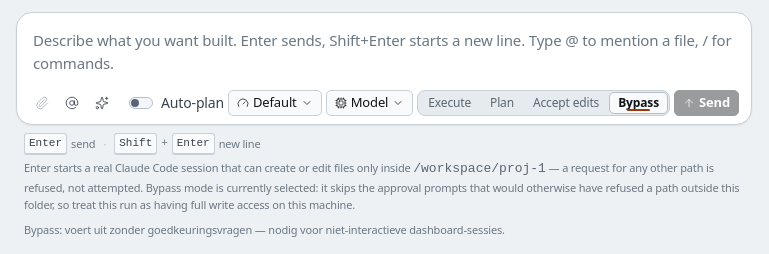
Test case: item 5 — the composer menu popover is height-bounded and skill items degrade gracefully › a skill with no recorded description renders only its name, never "No description recorded."
Click the button named "Choose a skill" at (102, 103), box [89, 90, 115, 116]
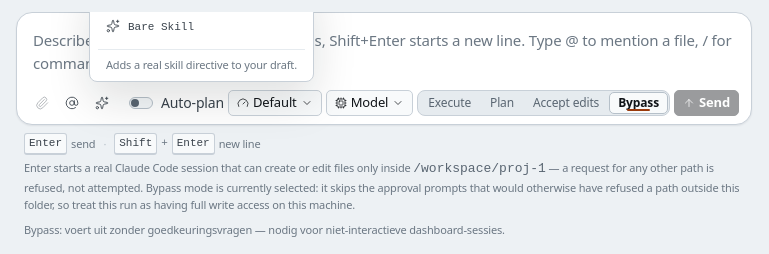
expect the text "Bare Skill" is shown: met, box [128, 19, 194, 36]
